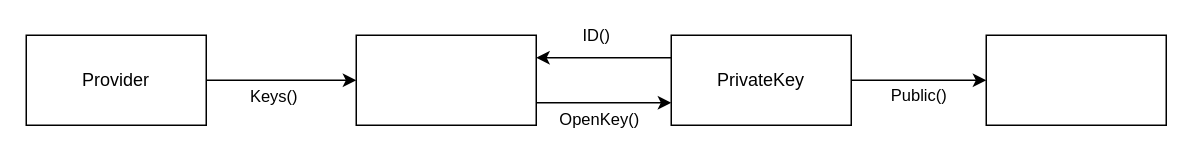
The diagram is 1193 pixels wide and 155 high, and some of its shapes have lost their labels. The centre of each missing label's shape, as x and y in pixels:
"KeyID" belongs at pixel 445 79.
"PublicKey" belongs at pixel 1075 79.
